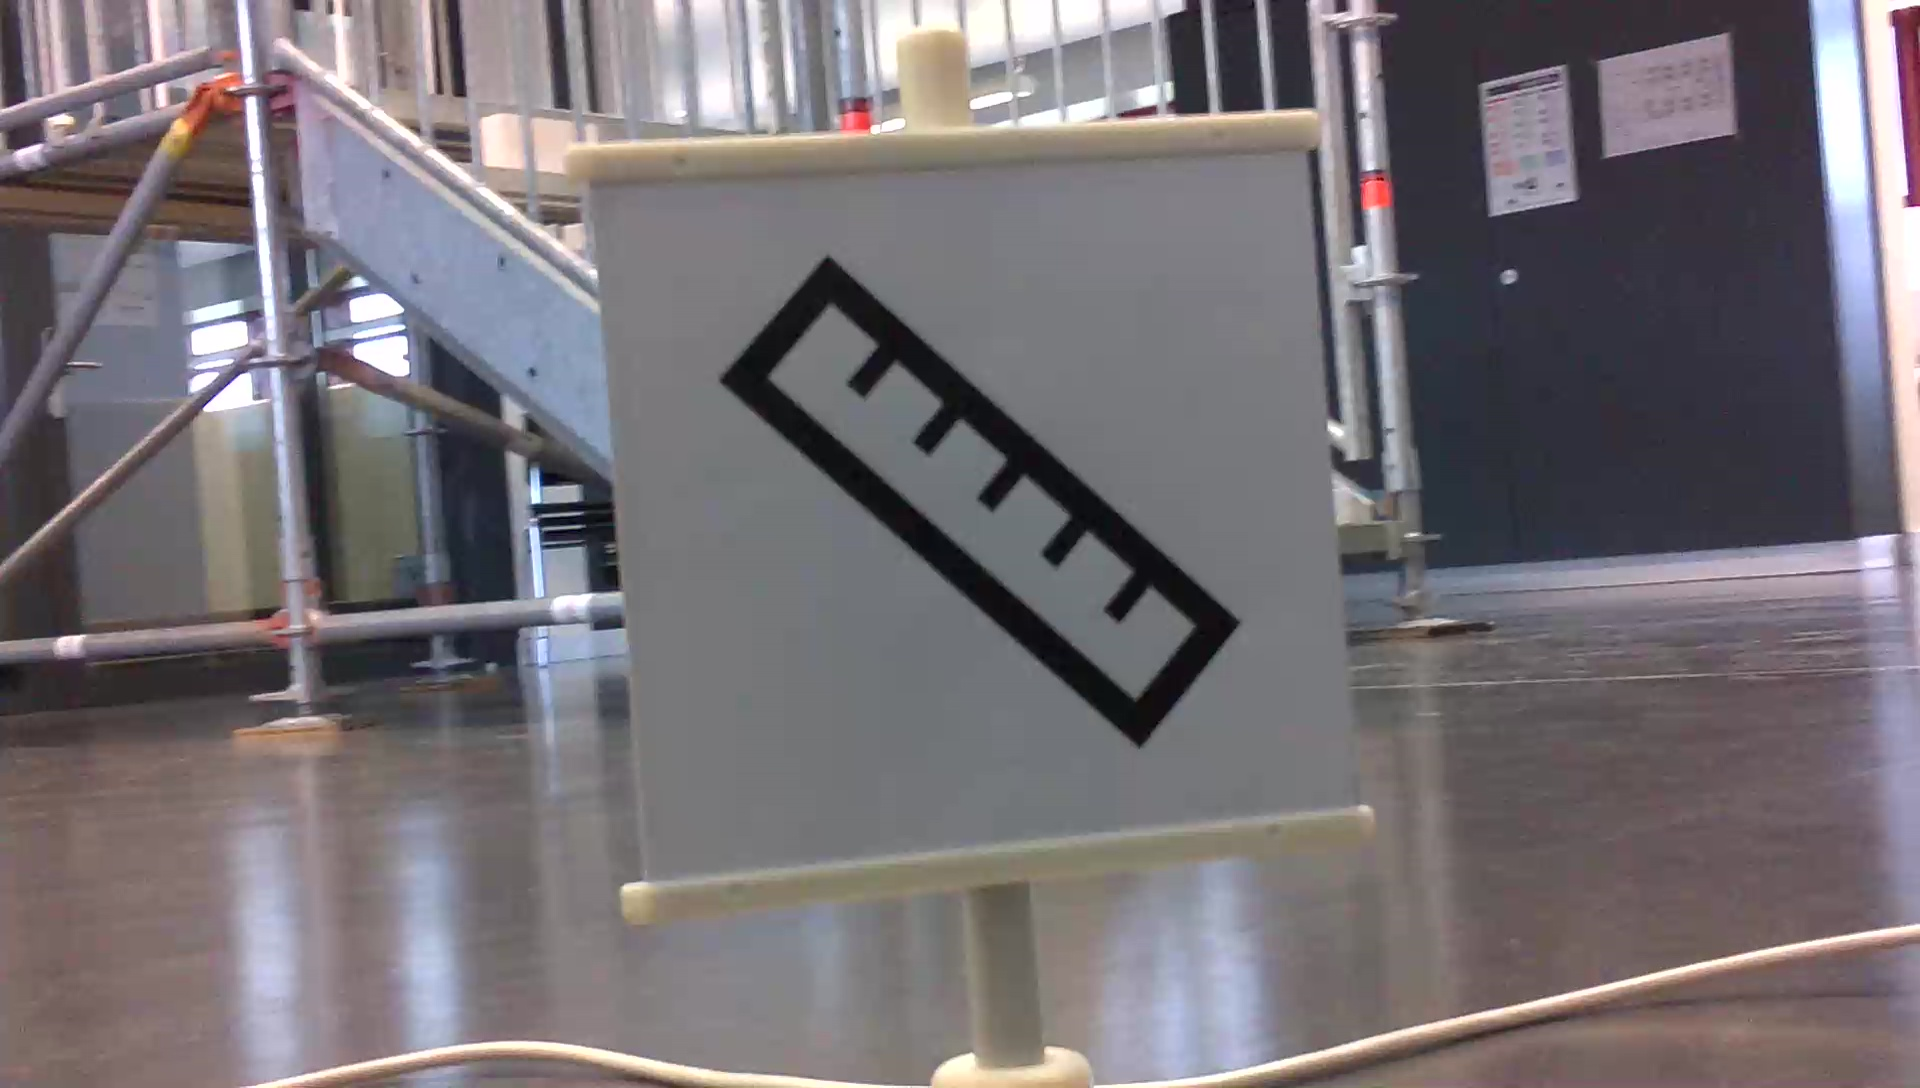ruler: (720, 255, 1236, 745)
